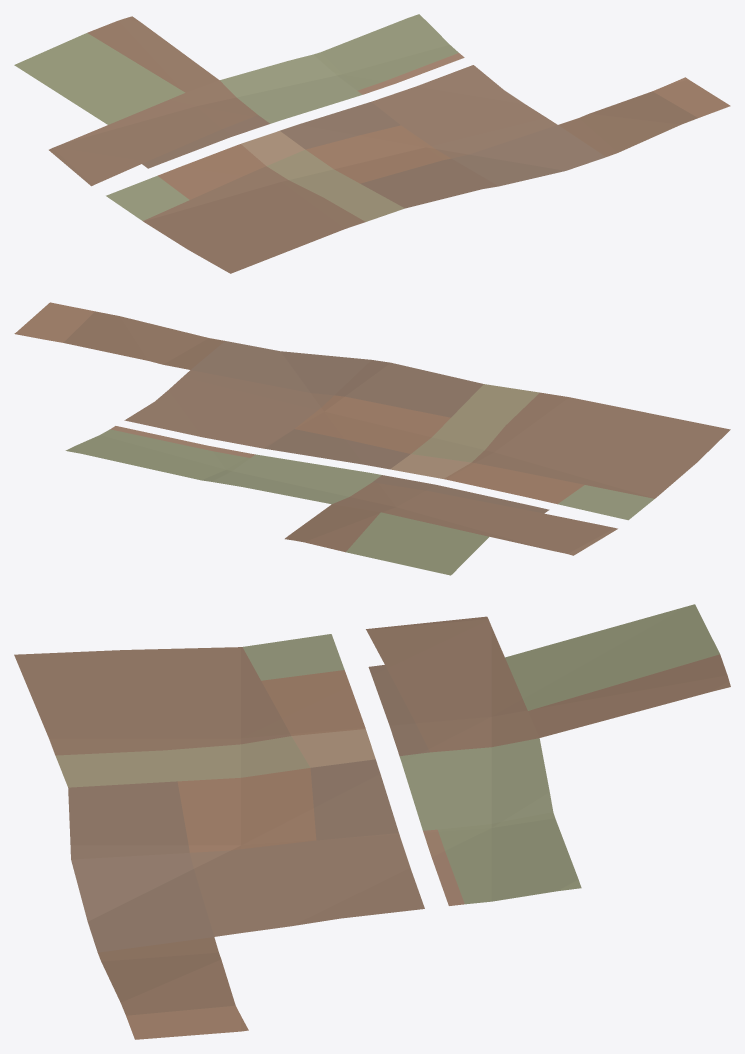
The model's file is farm_5_22_soil.glb.
3 renders of one model, top to bottom at view 1: azimuth 30°, elevation 25°; view 2: azimuth 150°, elevation 25°; view 3: azimuth 270°, elevation 25°, orthographic. The views are drawn at different scales.
Parts seen in each view (by area): view 1: geometry_0; view 2: geometry_0; view 3: geometry_0.
Part boxes in pixels (box(x1,y1,x2,y2)): geometry_0: box(14, 14, 730, 273); geometry_0: box(14, 302, 730, 575); geometry_0: box(14, 604, 730, 1039).
Size of the model in its own units: 311 by 26.67 by 229.
